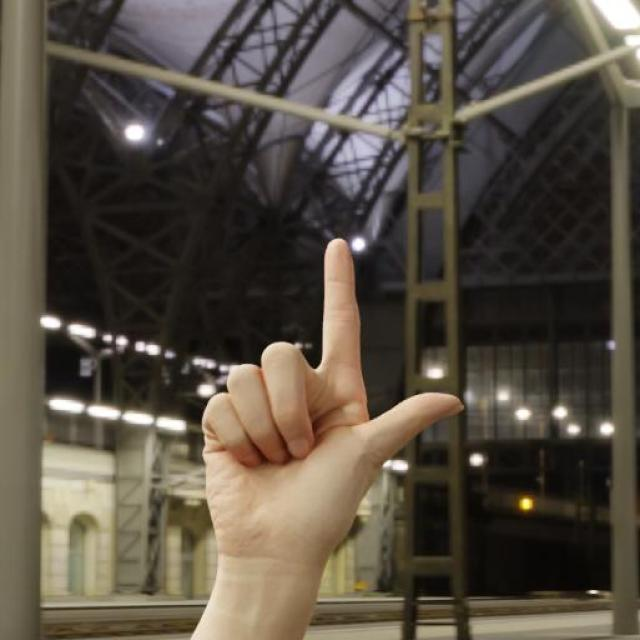L: (198, 233, 469, 572)
